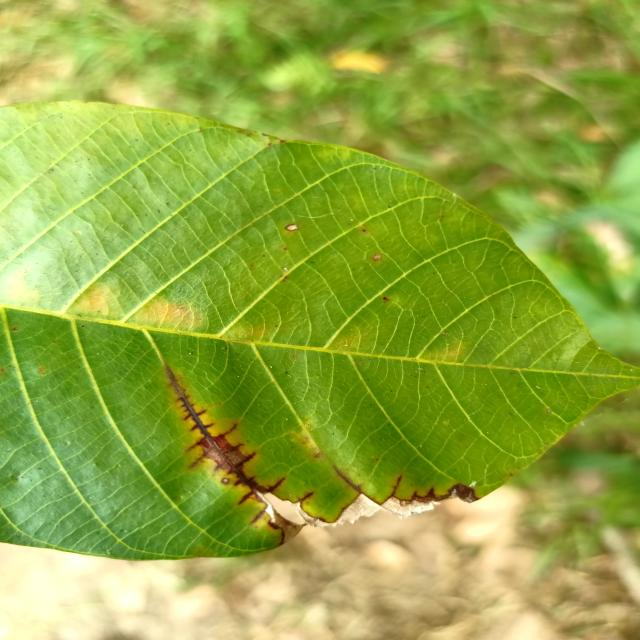Colletotrichum: (284, 224, 298, 231), (221, 478, 230, 484)
Corynespora: (163, 363, 289, 524), (330, 466, 474, 506)
Leaf-Blight: (298, 496, 439, 528), (260, 494, 304, 544)
